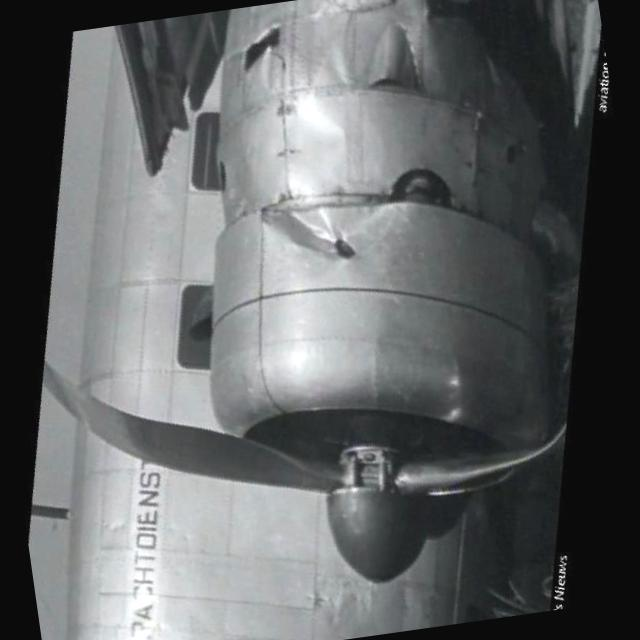dent: (284, 188, 401, 283)
